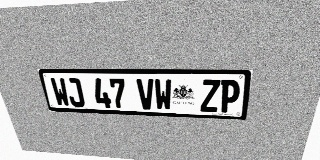4: (92, 78, 112, 108)
7: (108, 78, 128, 109)
J: (65, 78, 86, 107)
P: (219, 80, 241, 113)
V: (136, 79, 155, 110)
W: (50, 78, 71, 107), (154, 79, 172, 111)
Z: (200, 79, 221, 112)
